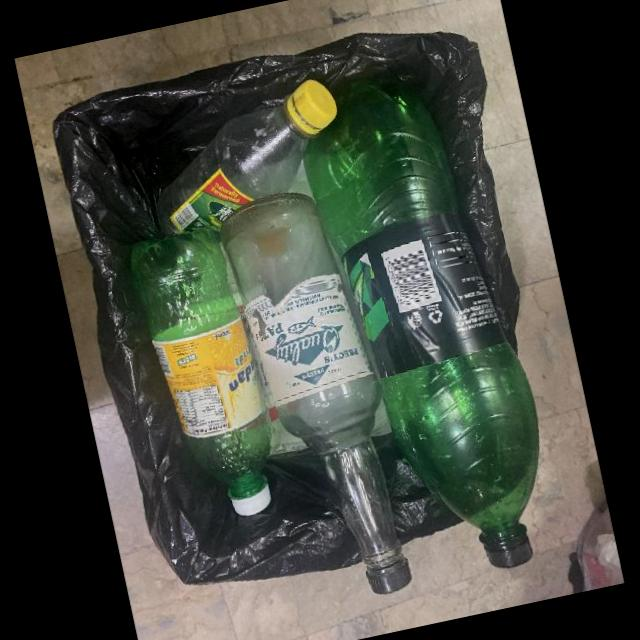chai_nhua: (302, 83, 539, 569), (131, 229, 271, 516)
chai_nhua_pet: (157, 79, 337, 236)
chai_thuy_tinh: (220, 192, 411, 595)
